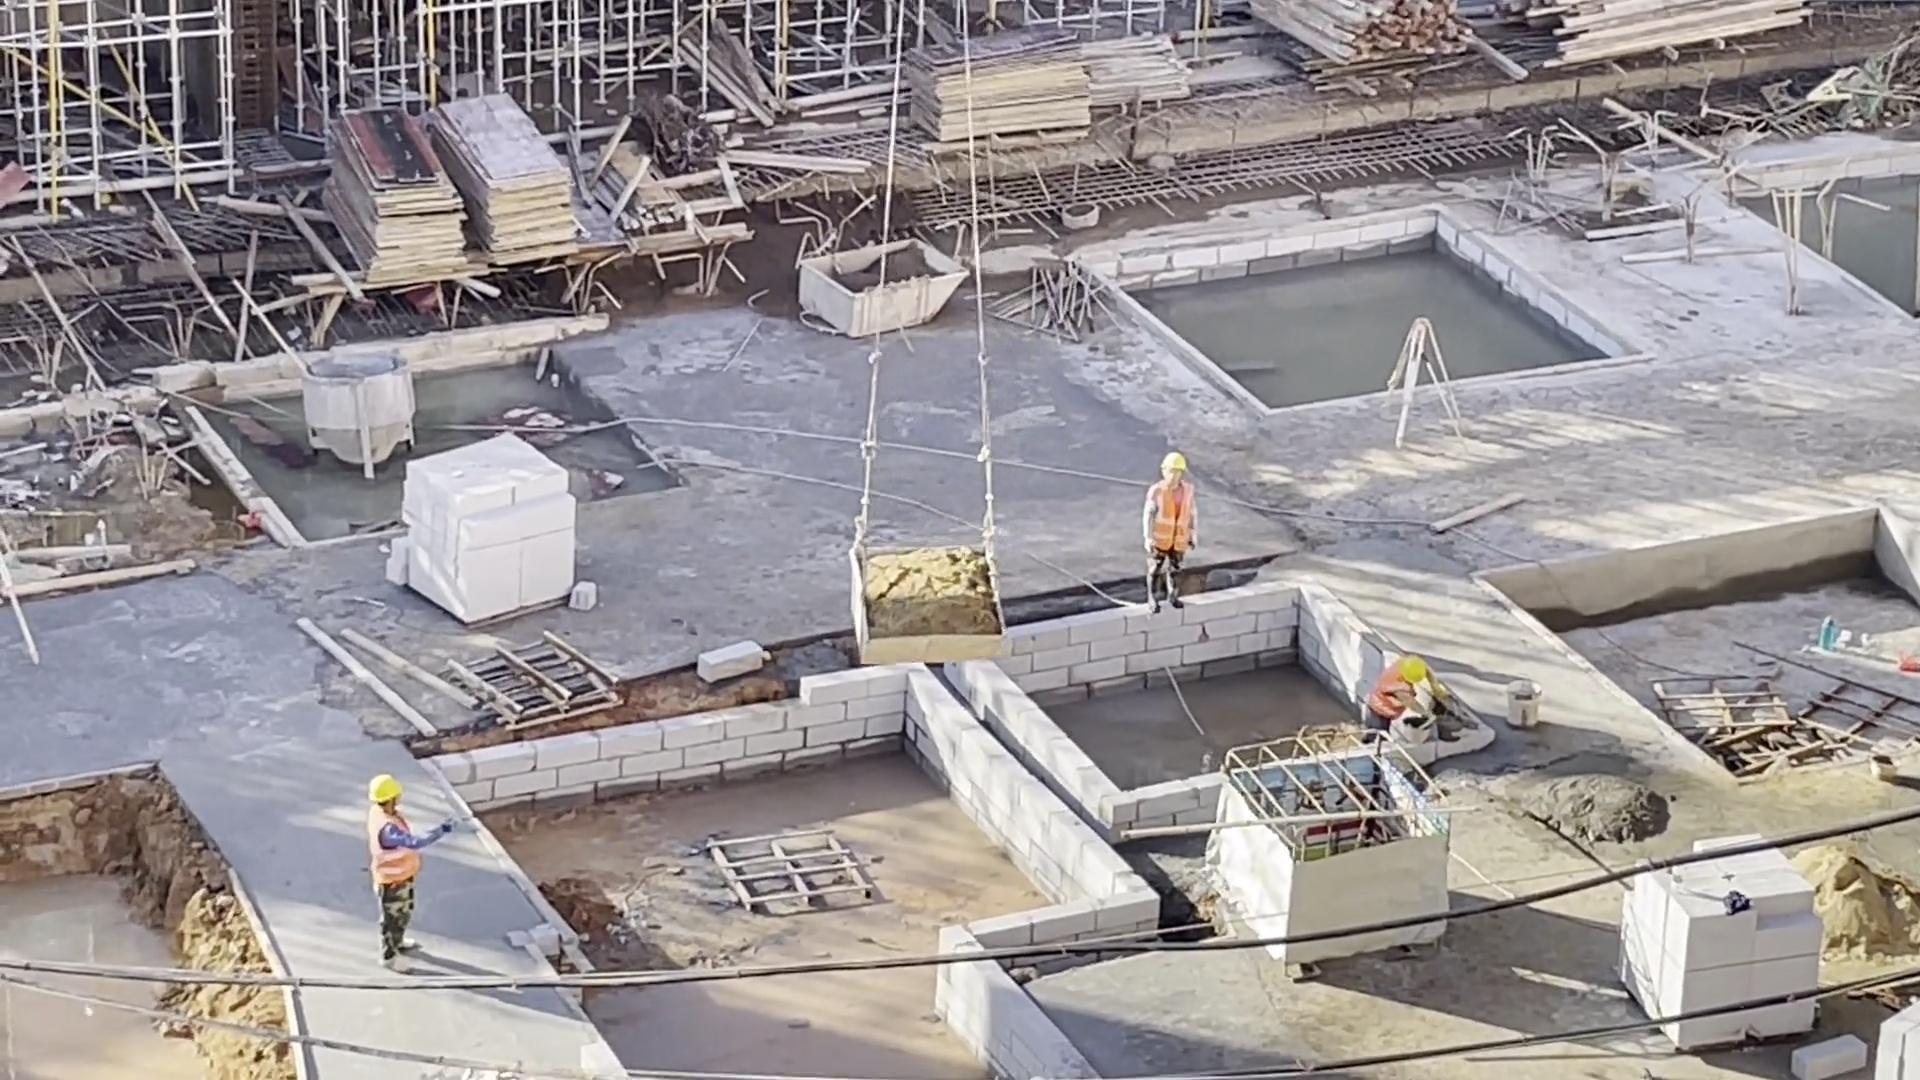board: (315, 105, 473, 287), (892, 23, 1096, 158), (436, 90, 581, 269)
brick: (367, 427, 582, 622), (1609, 883, 1827, 998)
helmet: (366, 771, 406, 806), (1395, 649, 1430, 687), (1159, 452, 1189, 475)
hopper: (847, 542, 1014, 674), (787, 237, 974, 338), (293, 346, 421, 487)
person: (356, 772, 466, 976), (1144, 449, 1204, 608), (1359, 650, 1454, 749)
vest: (364, 806, 428, 885), (1148, 483, 1199, 556), (1367, 664, 1411, 717)
wood: (1510, 2, 1828, 68), (1241, 5, 1491, 79)
